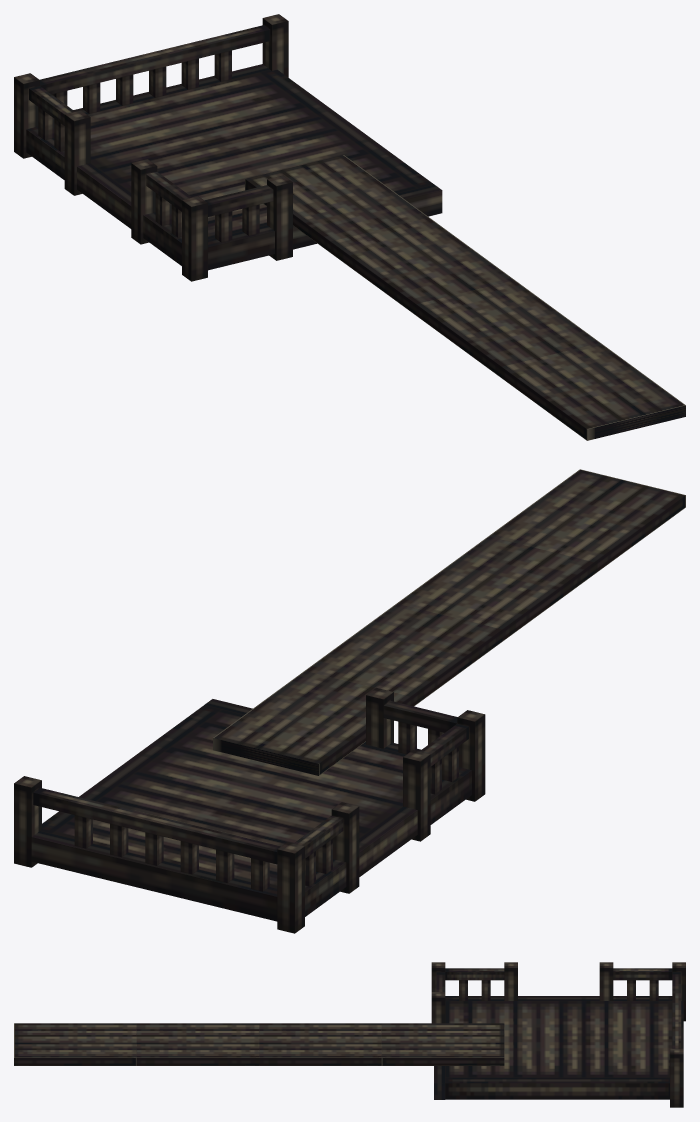
File: EnvBdgMD_Mount_A_Outdoor_Inn_Roof_Terrace.FBX
3 renders of one model, top to bottom at view 1: azimuth 30°, elevation 25°; view 2: azimuth 150°, elevation 25°; view 3: azimuth 270°, elevation 25°, orthographic. The views are drawn at different scales.
Parts seen in each view (by area): view 1: EnvBdgMD_Mount_A_Outdoor_Inn_Roof_Terrace; view 2: EnvBdgMD_Mount_A_Outdoor_Inn_Roof_Terrace; view 3: EnvBdgMD_Mount_A_Outdoor_Inn_Roof_Terrace.
Boxes of the visible parts, left/top/right/bottom form: EnvBdgMD_Mount_A_Outdoor_Inn_Roof_Terrace: left=14, top=14, right=685, bottom=440; EnvBdgMD_Mount_A_Outdoor_Inn_Roof_Terrace: left=14, top=469, right=685, bottom=933; EnvBdgMD_Mount_A_Outdoor_Inn_Roof_Terrace: left=14, top=962, right=685, bottom=1107.
Bounding box in the file's own units: 240 × 65 × 740.
1 material, 1 textured.
